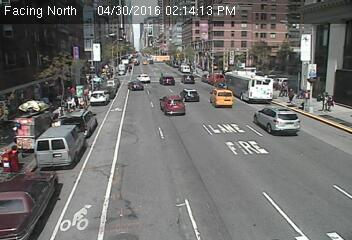neg: (125, 149, 151, 184), (54, 88, 77, 119), (80, 167, 102, 197), (154, 153, 176, 183), (205, 136, 227, 164), (152, 66, 173, 94), (122, 68, 139, 90), (30, 126, 46, 148), (106, 57, 120, 76), (7, 151, 20, 168), (87, 74, 98, 90), (189, 41, 197, 52), (149, 51, 157, 61), (128, 41, 135, 50), (136, 50, 142, 58)
pos: (318, 93, 335, 115), (284, 87, 298, 105), (274, 81, 286, 98), (324, 95, 336, 112)
